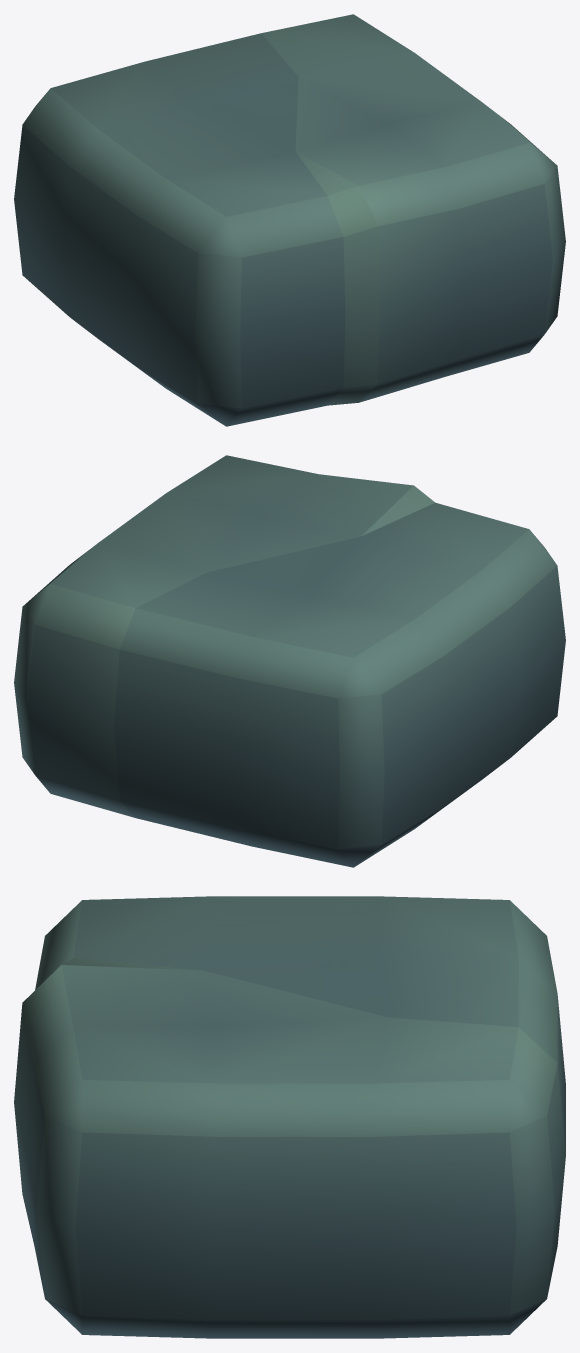
Rendered from cube_03_shade_3_LOD_setup.fbx.
The picture shows the model from 3 angles, top to bottom: view 1: azimuth 30°, elevation 25°; view 2: azimuth 150°, elevation 25°; view 3: azimuth 270°, elevation 25°; orthographic projection. The views are drawn at different scales.
Parts seen in each view (by area): view 1: cube_03_shade_3_LOD0; view 2: cube_03_shade_3_LOD0; view 3: cube_03_shade_3_LOD0.
Boxes of the visible parts, bbox=[...] form: cube_03_shade_3_LOD0: bbox=[14, 14, 565, 426]; cube_03_shade_3_LOD0: bbox=[14, 455, 565, 867]; cube_03_shade_3_LOD0: bbox=[14, 896, 565, 1338].
Size of what is drawn, in the model's own units: 112 by 60.18 by 114.
